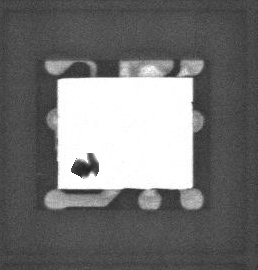DIE_INK: (68, 160, 94, 186)
